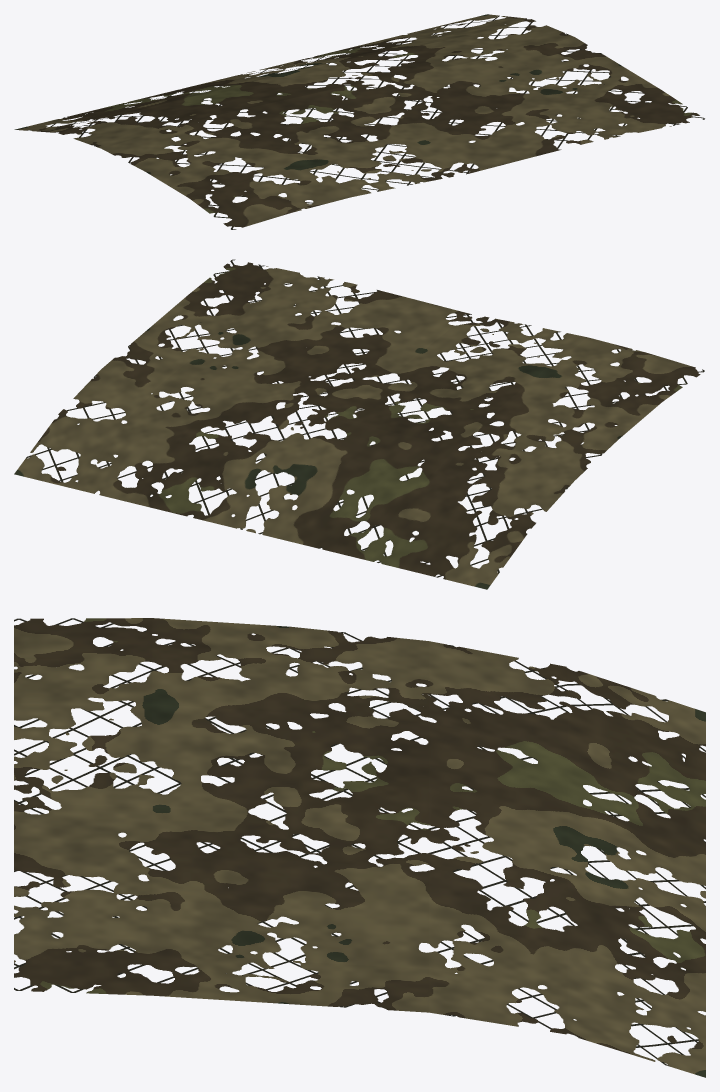
File: S7U_CamoNet_Edge_2m.fbx
3 renders of one model, top to bottom at view 1: azimuth 30°, elevation 25°; view 2: azimuth 150°, elevation 25°; view 3: azimuth 270°, elevation 25°, orthographic. The views are drawn at different scales.
Parts seen in each view (by area): view 1: S7U_CamoNet_Edge_2m; view 2: S7U_CamoNet_Edge_2m; view 3: S7U_CamoNet_Edge_2m.
Boxes of the visible parts, x1,y1,x2,y2 form: S7U_CamoNet_Edge_2m: [14, 14, 704, 229]; S7U_CamoNet_Edge_2m: [14, 259, 704, 589]; S7U_CamoNet_Edge_2m: [14, 618, 705, 1077].
Bounding box in the file's own units: 2 × 0.2567 × 1.6.
